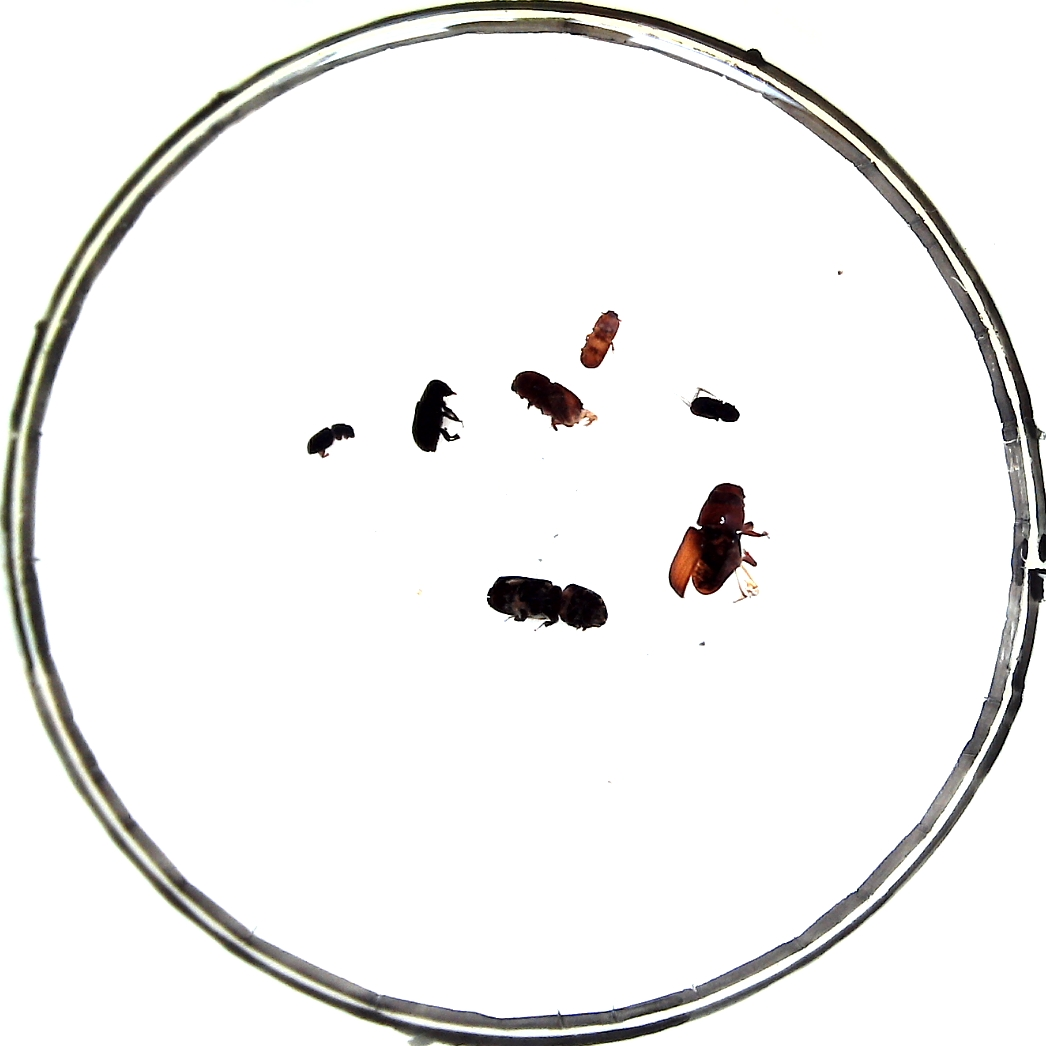Boerner: (484, 573, 607, 629)
Leconte: (666, 482, 754, 602)
Linnaeus: (505, 364, 586, 427)
acuminatus: (580, 311, 619, 367)
armandi: (411, 376, 460, 454)
coleoptera: (687, 391, 741, 424), (305, 421, 351, 457)
